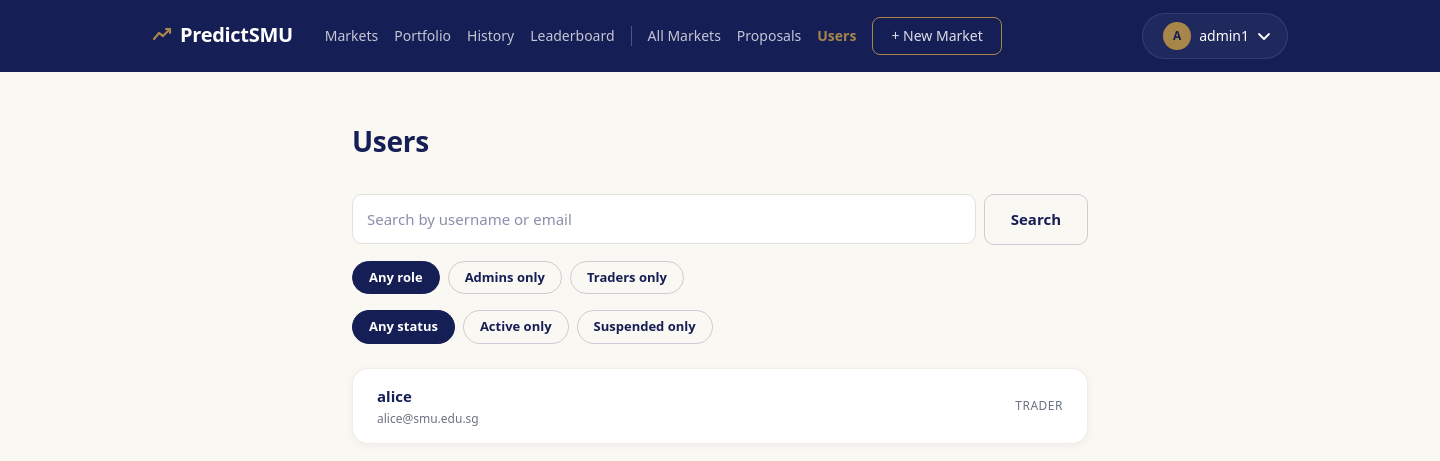
AdminUsersPage › Filter by role: Traders only asks the server for exactly that, and shows what it returns
Expected: the text "alice" is shown, [377,386,412,406]
Click the radio button labelled "Traders only": (627, 277) [570,260,684,294]
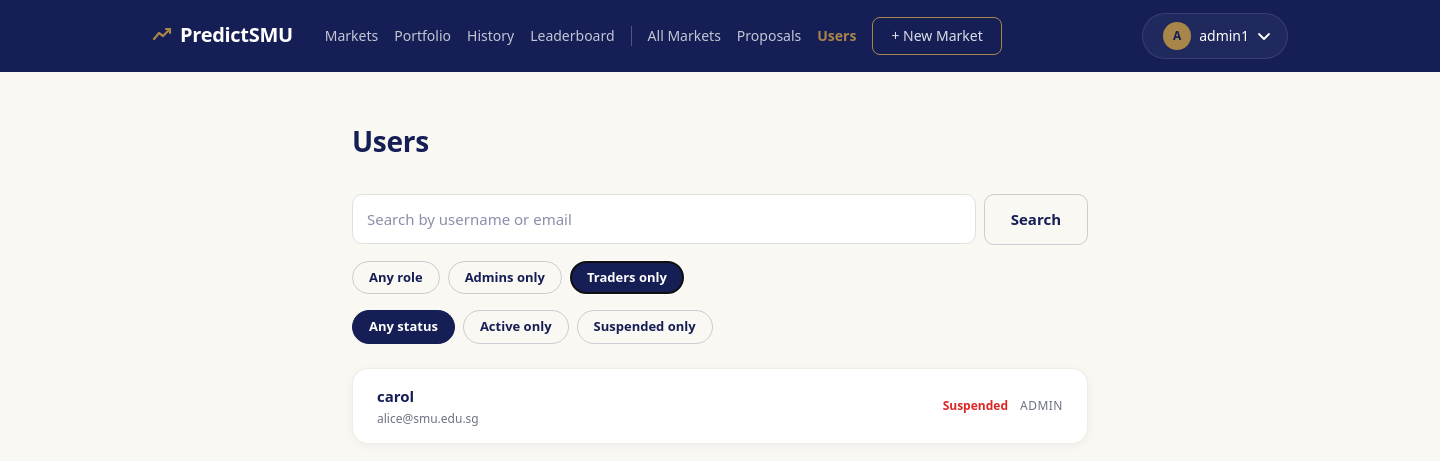
Result: the text "carol" is shown at [377,386,414,406]
